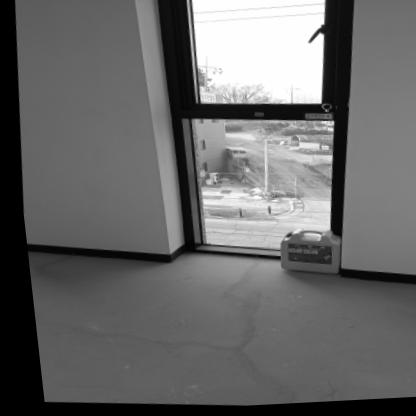DDL: (269, 228, 336, 278)
